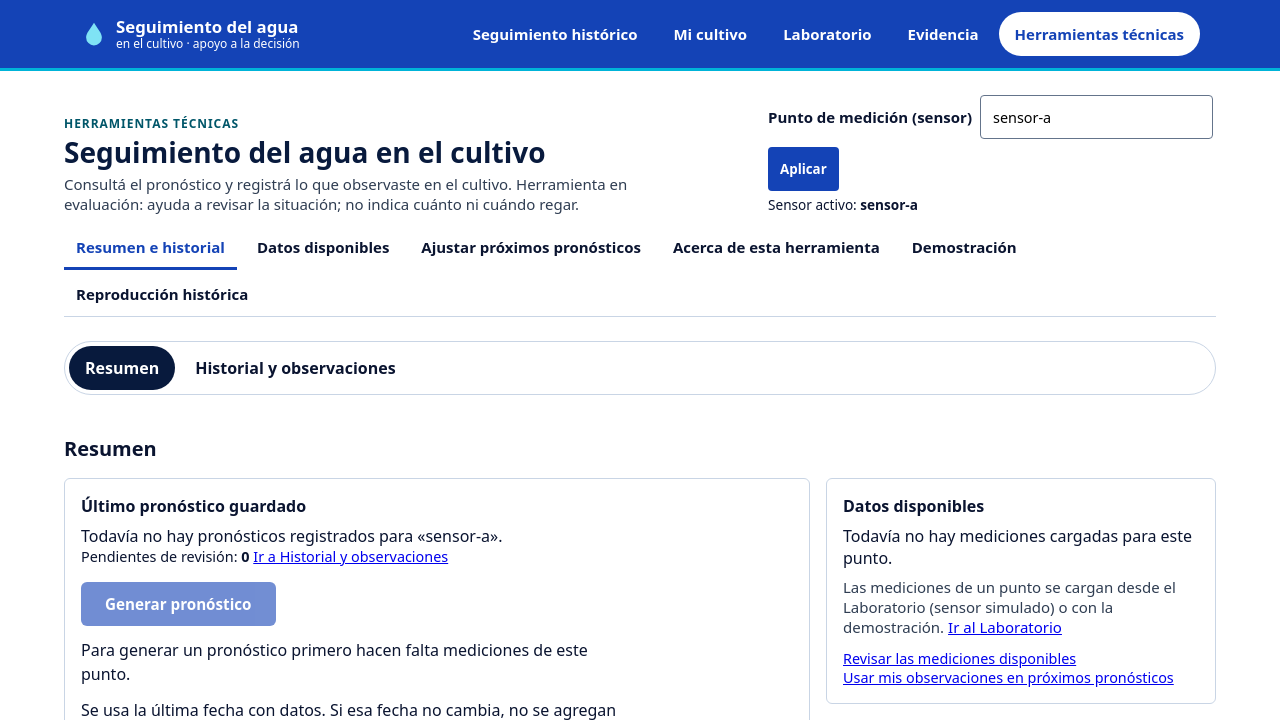
Test case: App — demostración acelerada (entrega 3) › blocks manual forecast generation for the demo sensor while its session has not completed, with an explanation
This screenshot has width=1280, height=720.
Step 1. Replace the text in the field labelled "Punto de medición (sensor)" with "demo-sensor-1" → [1096, 117], box [980, 95, 1213, 139]
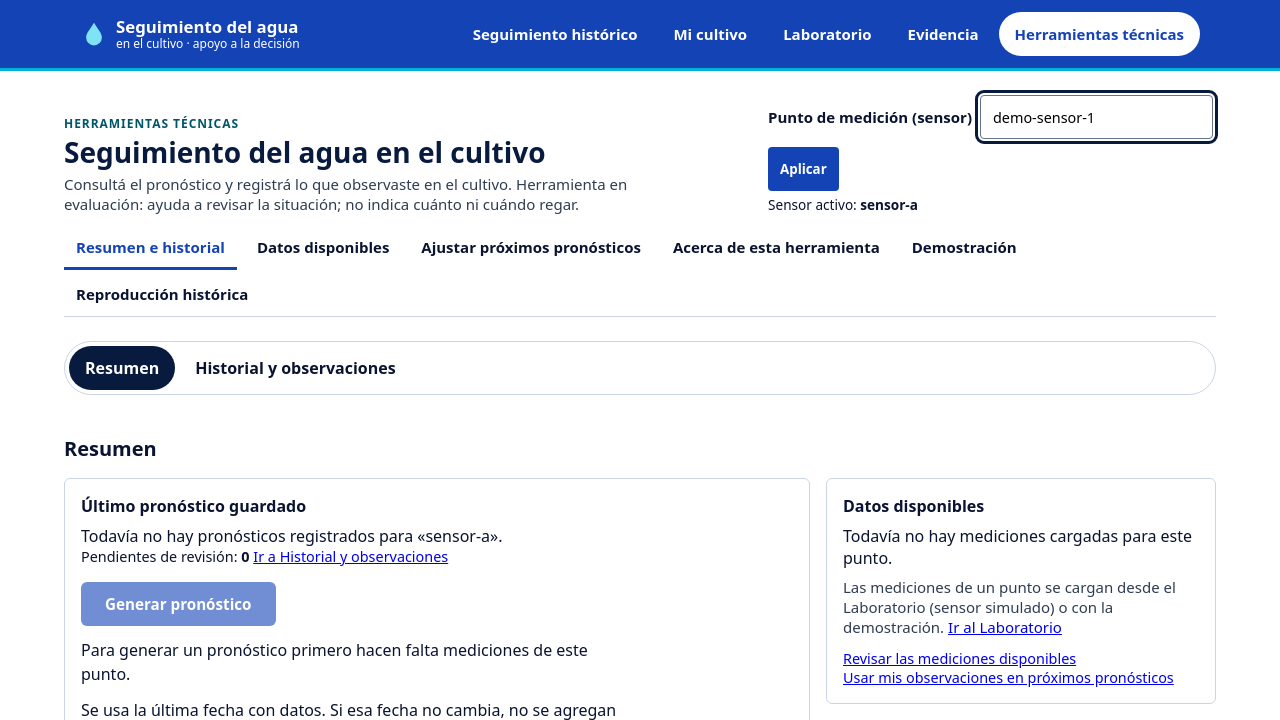
Step 2. Click the button "Aplicar" → [803, 169], box [768, 147, 839, 191]
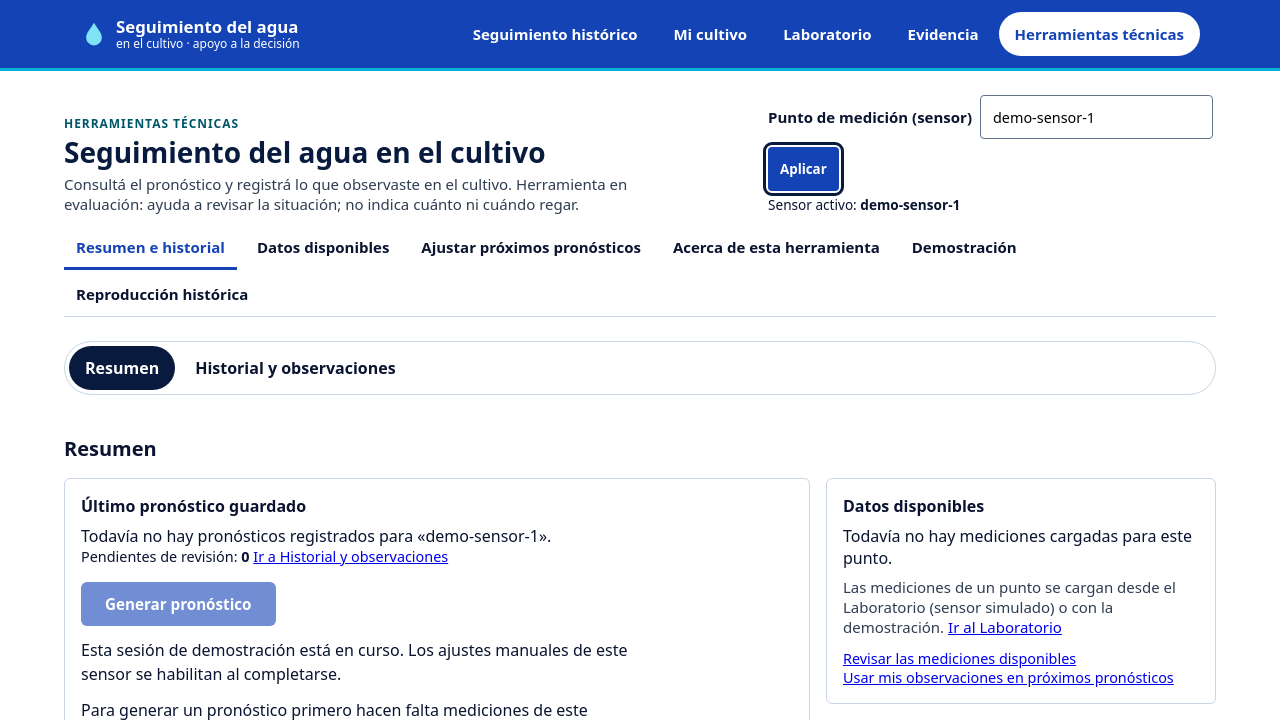
expect the button "Generar pronóstico" is disabled: met, box [81, 582, 276, 626]
expect the text "sesión de demostración está en curso" is shown: met, box [81, 639, 627, 685]
